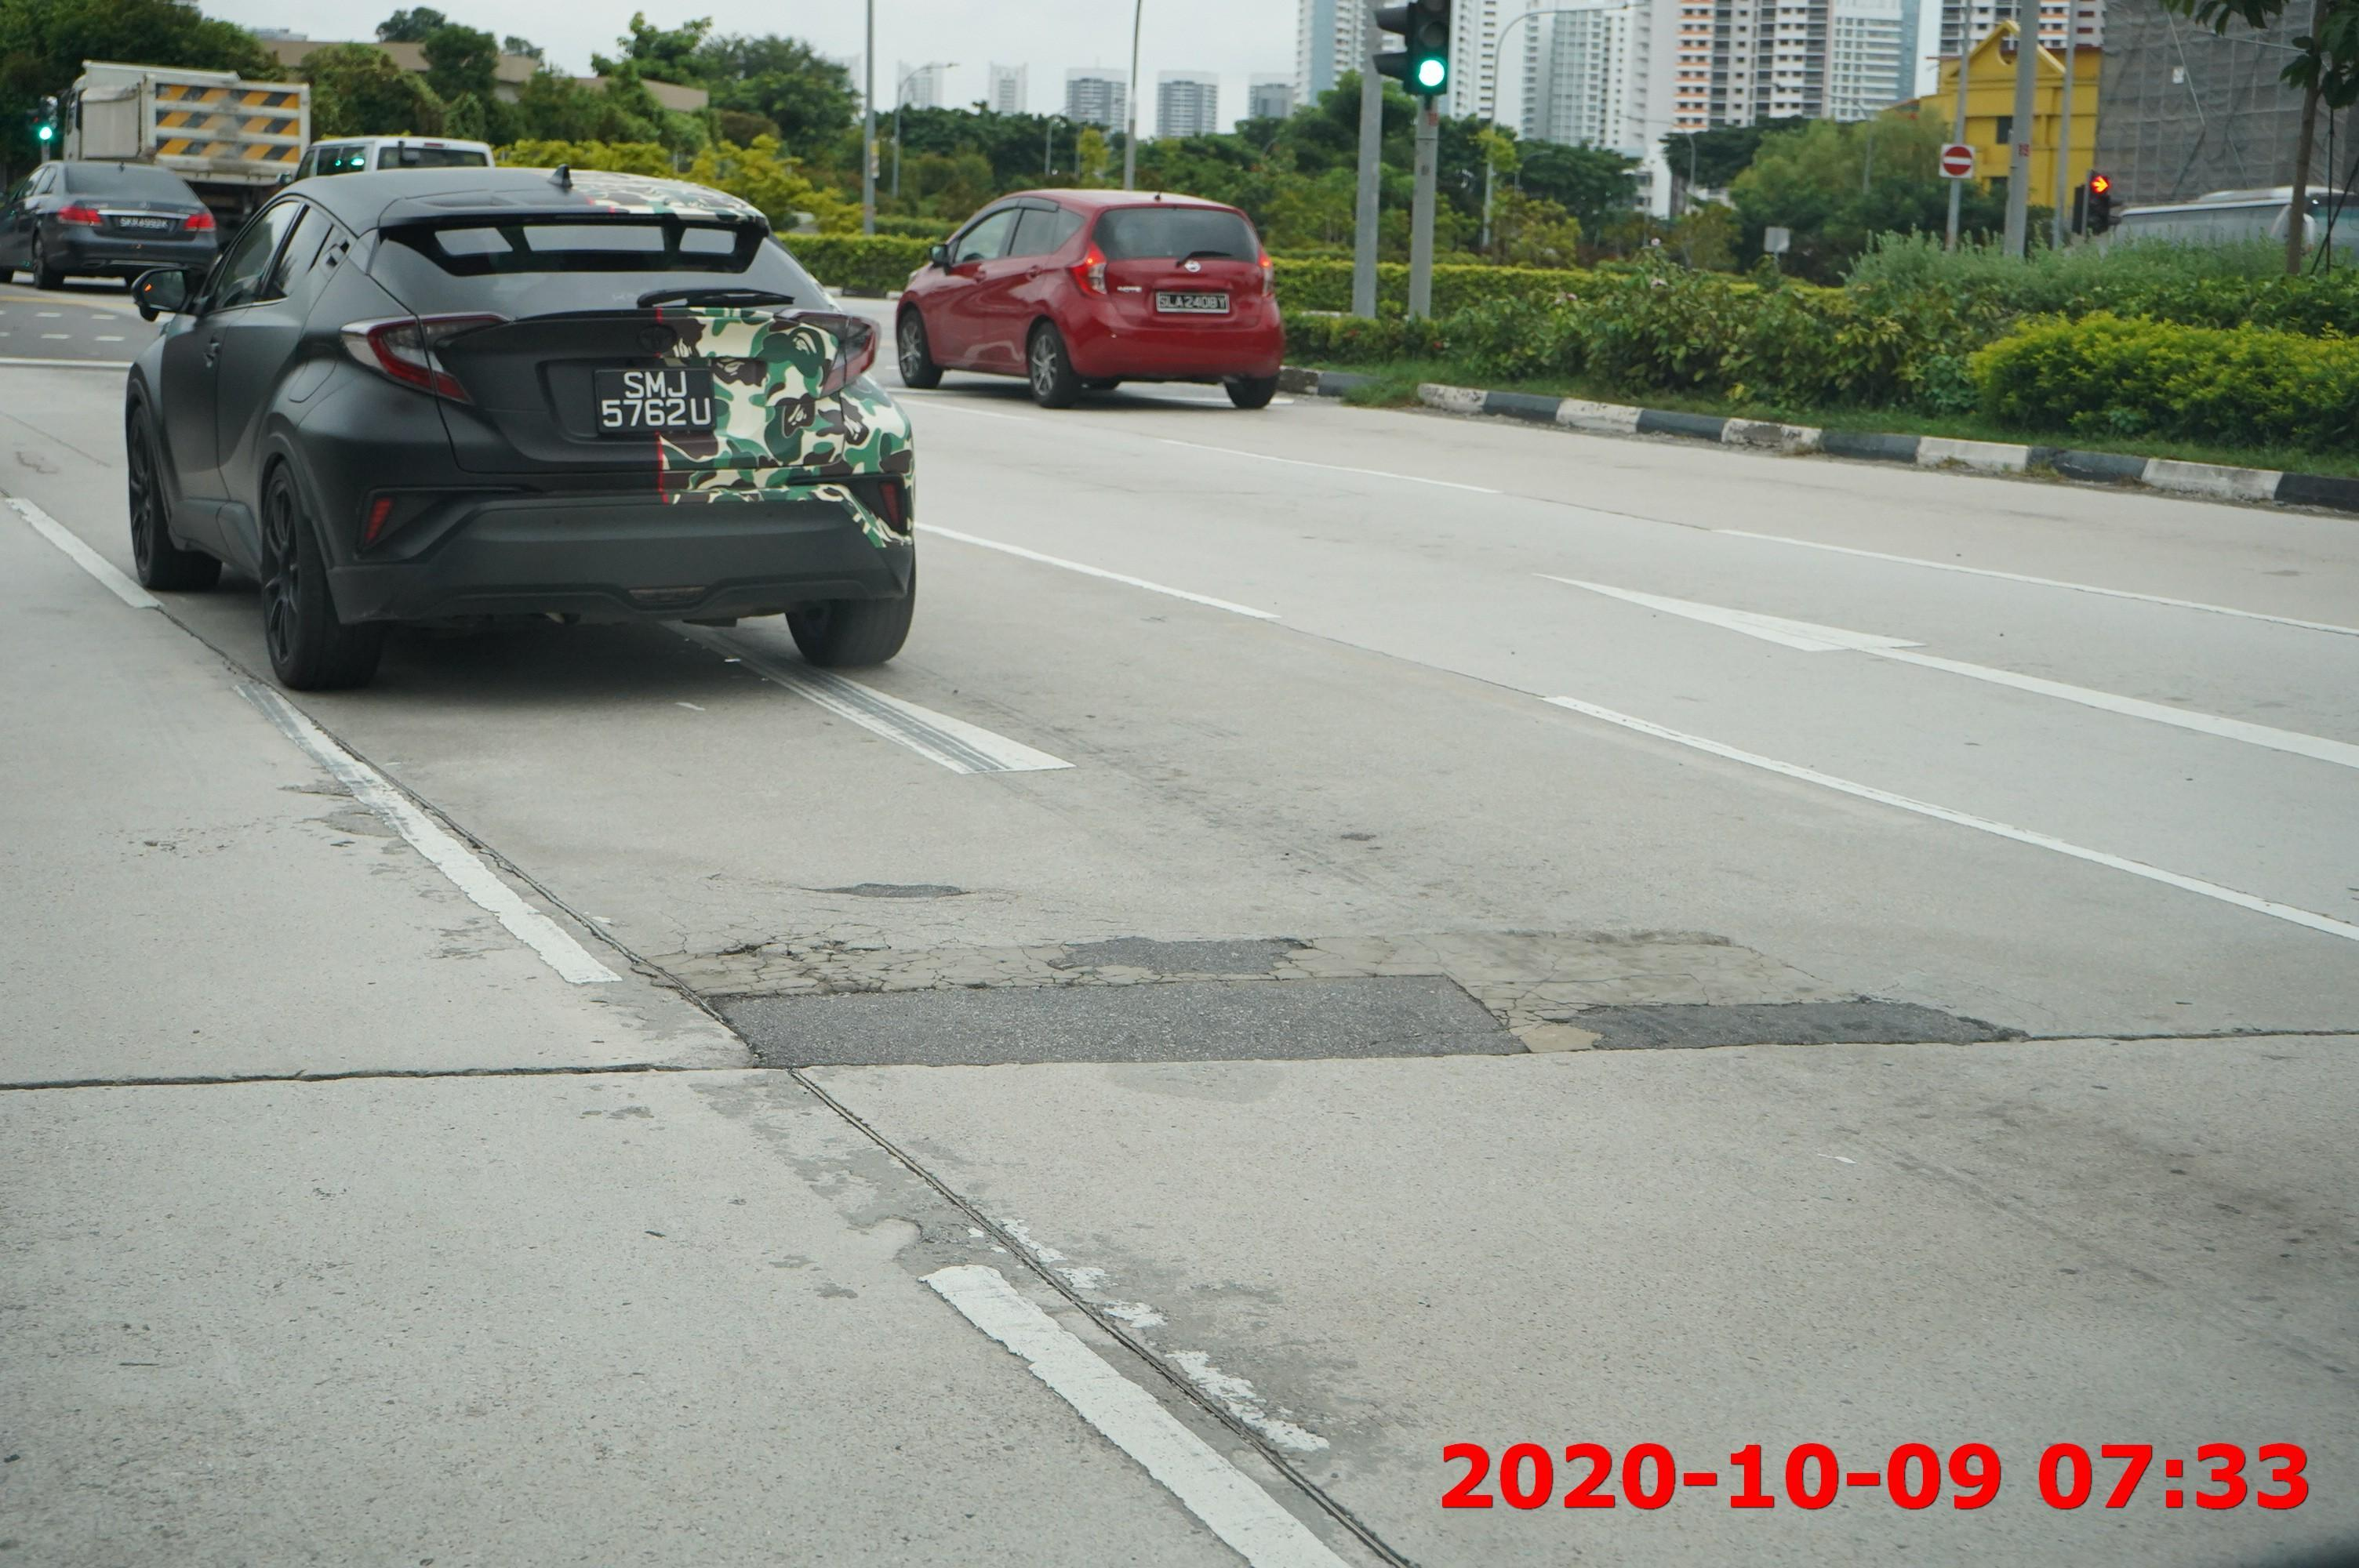peel off with cracks: (653, 915, 915, 1008)
peeling off premix: (1920, 990, 2124, 1064)
rigid pavement crack: (2133, 996, 2355, 1066)
